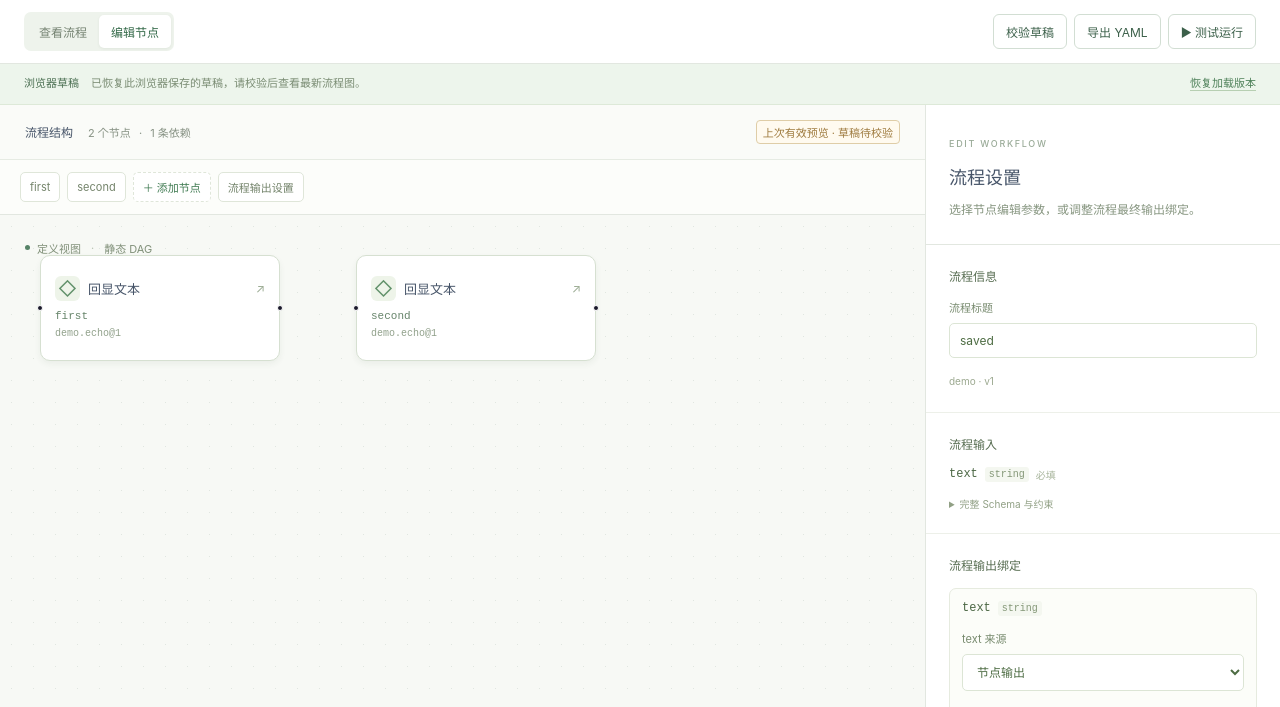
Test: draft editing workspace › requires explicit draft discard and clears saved data when restored
Check: the field labelled "流程标题" holds "saved", box [949,323,1257,358]
Click the button "恢复加载版本" at (1223, 84), box [1190,75,1256,93]
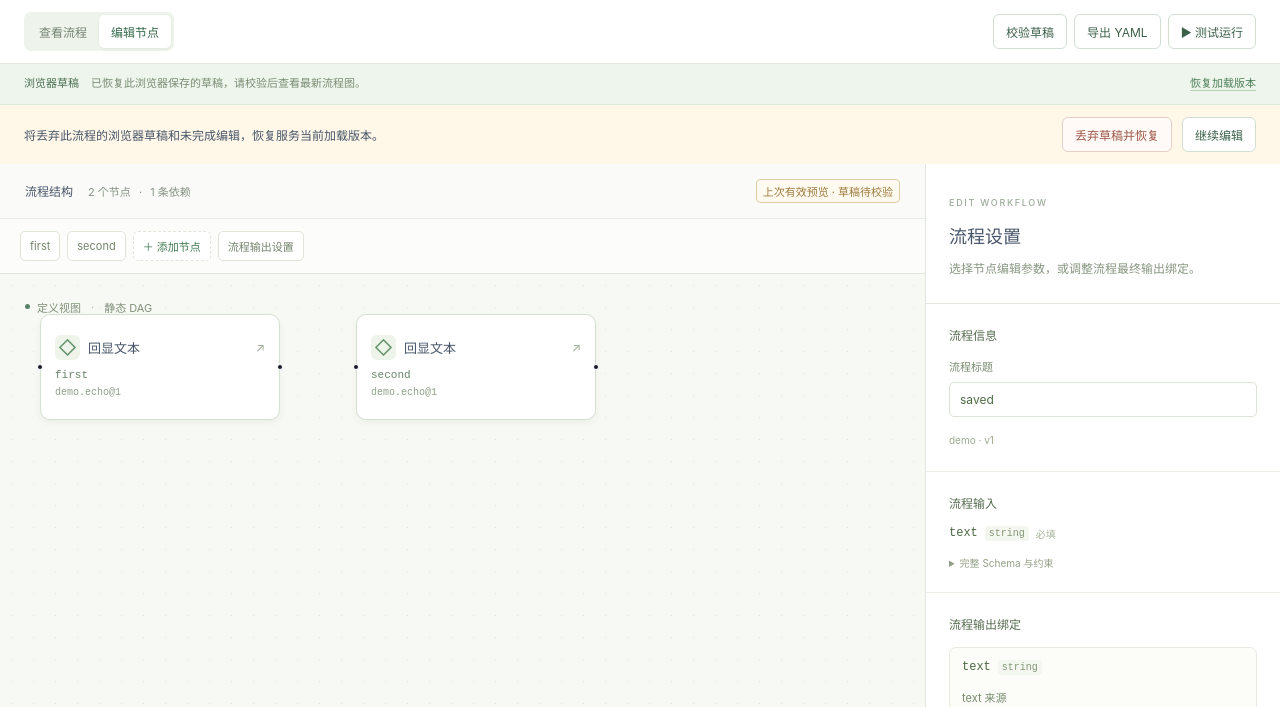
Click the button "丢弃草稿并恢复" at (1117, 134), box [1062,117,1172,152]
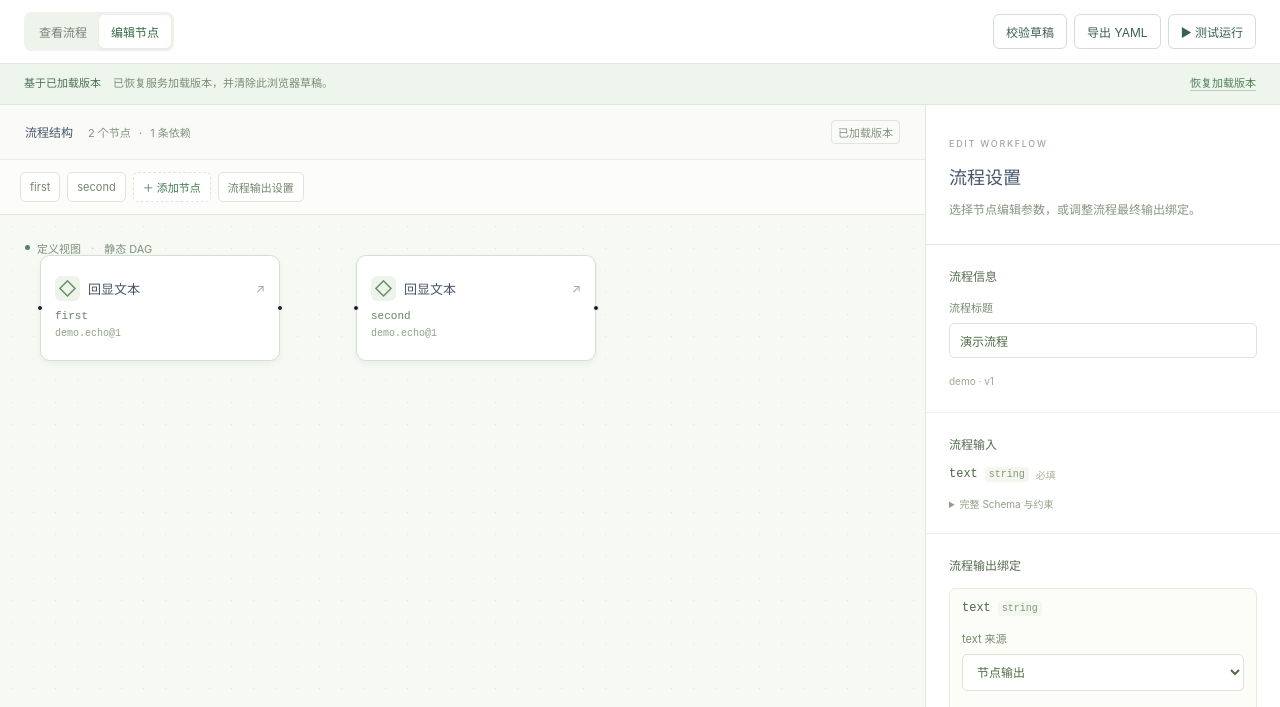
Check: the field labelled "流程标题" holds "演示流程", box [949,323,1257,358]
Check: the text "已加载版本" is shown, box [831,120,900,144]
